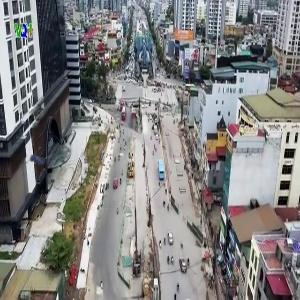drone: (17, 133, 65, 181)
